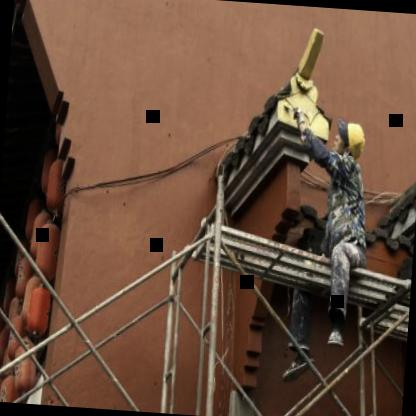helmet: (332, 115, 366, 162)
